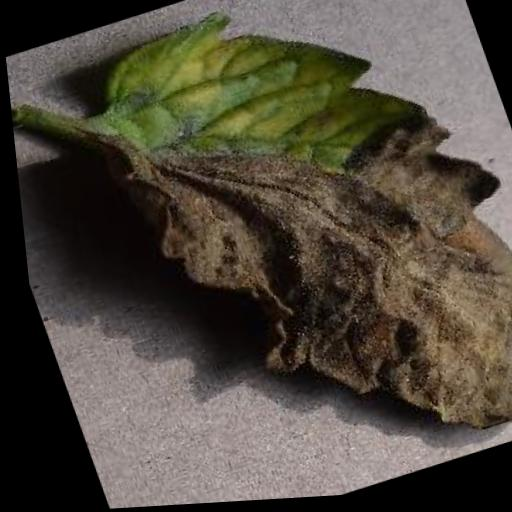Late Blight: (70, 0, 512, 509)
